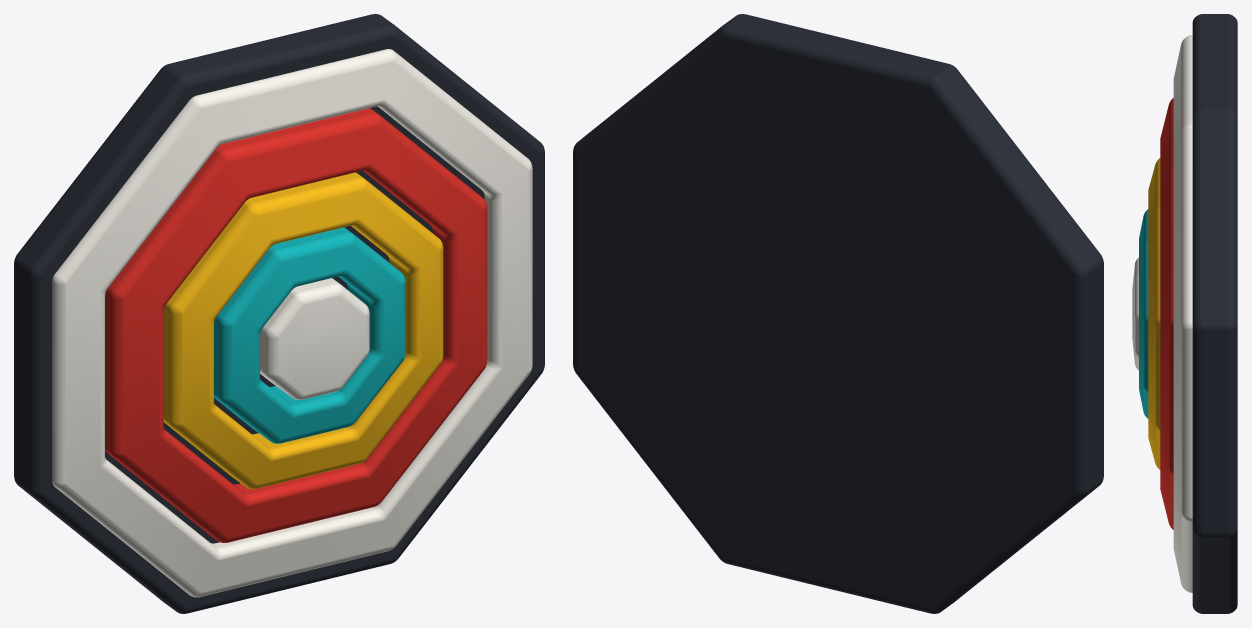
File: target.glb
3 renders of one model, left to right at view 1: azimuth 30°, elevation 25°; view 2: azimuth 150°, elevation 25°; view 3: azimuth 270°, elevation 25°, orthographic. The views are drawn at different scales.
Visible parts, largest first — view 1: ring_white, ring_red, base, ring_yellow, ring_teal, centre; view 2: base; view 3: base, ring_white, ring_red, ring_yellow, ring_teal, centre.
Part boxes in pixels (x1,y1,x2,y2): ring_white: (52, 49, 532, 597); ring_red: (105, 108, 487, 542); base: (14, 14, 544, 613); ring_yellow: (163, 172, 443, 489); ring_teal: (214, 227, 405, 443); centre: (260, 278, 369, 399); base: (573, 14, 1103, 613); base: (1192, 14, 1237, 613); ring_white: (1173, 35, 1192, 592); ring_red: (1160, 98, 1173, 529); ring_yellow: (1148, 158, 1160, 469); ring_teal: (1139, 209, 1148, 418); centre: (1132, 257, 1138, 370).
Size of what is drawn, in the model's own units: 0.3696 by 0.3696 by 0.07.
